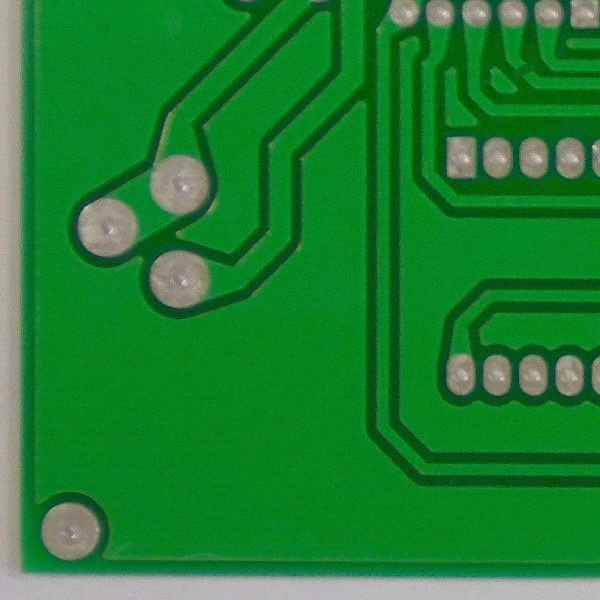open_circuit: (507, 61, 539, 84)
